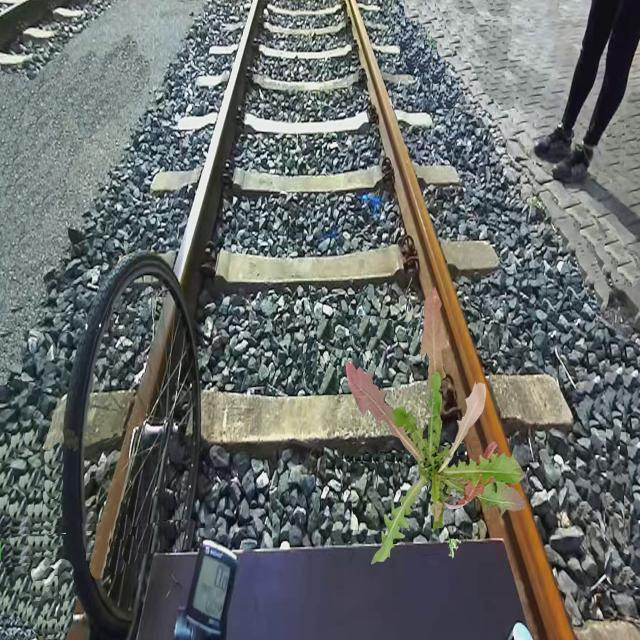Plant: (346, 286, 526, 564), (447, 538, 461, 558)
